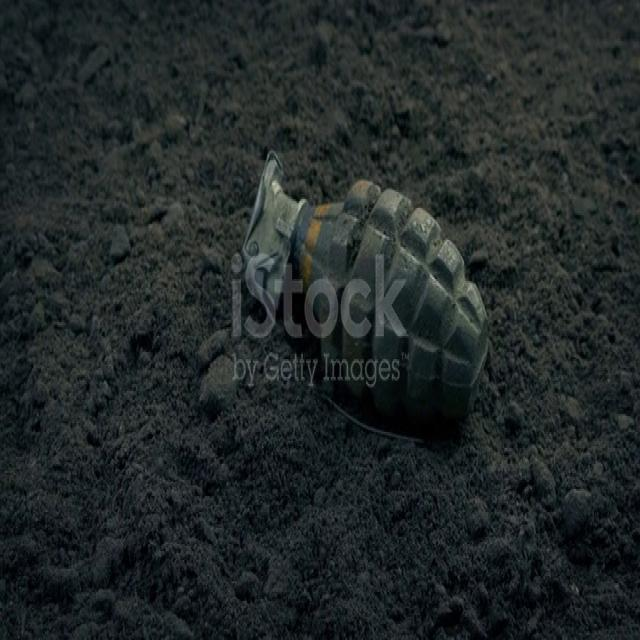grenade: (228, 144, 498, 450)
